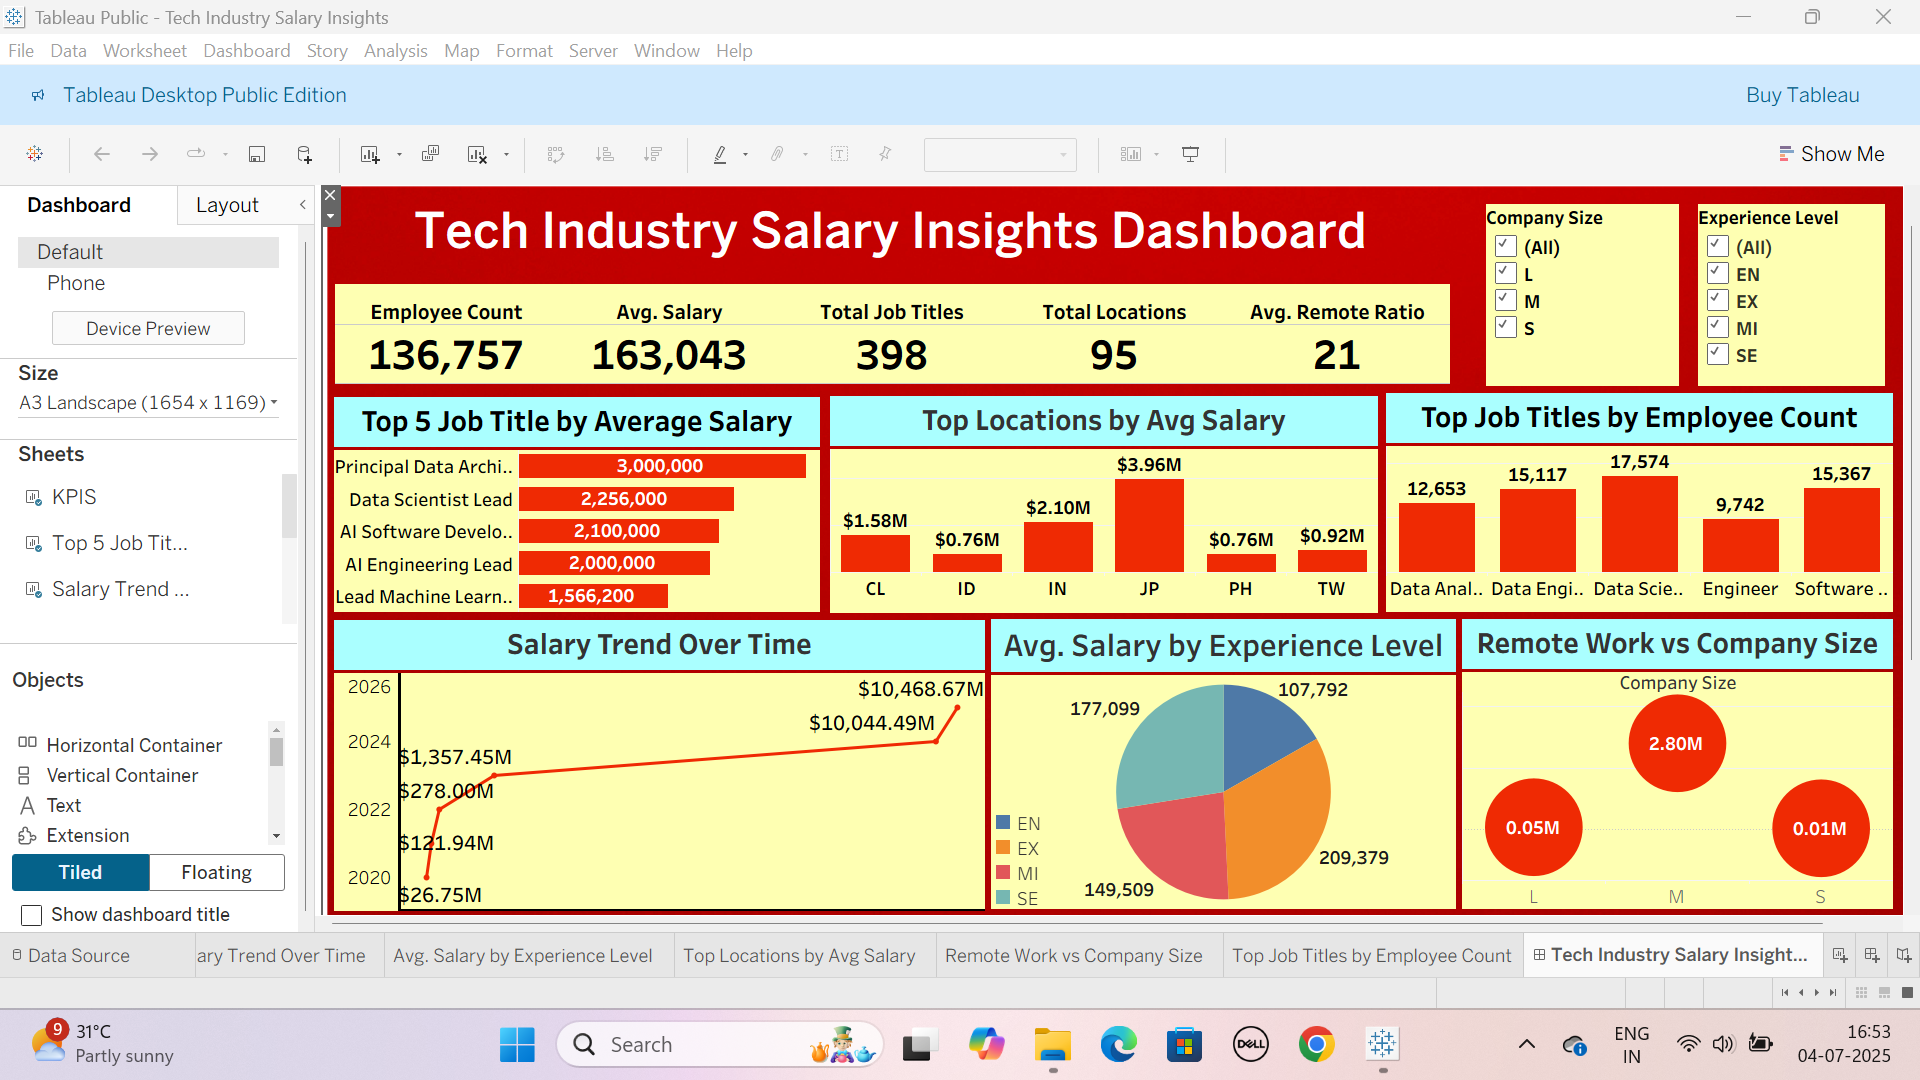

The page's visual inventory and layout, read from the dashboard file:
{"tool":"tableau","page":{"name":"Tech Industry Salary Insights Dashboard","canvas":[1654,1169],"ordinal":0},"visuals":[{"type":"image","param":"Image/pexels-photo-4723038.jpeg","box":[8,8,1638,1153]},{"type":"text","box":[15,43,1121,88]},{"type":"filter","title":"KPIS","param":"[federated.1yvr1s01m4lw1e1gnbx540pelc2t].[none:company_size:nk]","box":[1171,59,193,182]},{"type":"filter","title":"Avg. Salary by Experience Level","param":"[federated.1yvr1s01m4lw1e1gnbx540pelc2t].[none:experience_level:nk]","box":[1383,59,187,182]},{"type":"worksheet","title":"KPIS","mark":"Automatic","box":[20,139,1115,100]},{"type":"worksheet","title":"Top Job Titles by Employee Count","mark":"Automatic","rows":["Calculation_509188260400869376"],"cols":["job_title"],"box":[1071,248,507,219]},{"type":"worksheet","title":"Top Locations by Avg Salary","mark":"Automatic","rows":["salary"],"cols":["company_location"],"box":[515,251,548,217]},{"type":"worksheet","title":"Top 5 Job Title by Average Salary","mark":"Automatic","rows":["job_title"],"cols":["salary"],"box":[19,252,486,215]},{"type":"worksheet","title":"Avg. Salary by Experience Level","mark":"Pie","box":[676,474,465,290]},{"type":"worksheet","title":"Remote Work vs Company Size","mark":"Pie","rows":["remote_ratio"],"cols":["company_size"],"box":[1147,474,431,290]},{"type":"worksheet","title":"Salary Trend Over Time","mark":"Line","rows":["work_year"],"cols":["salary"],"box":[19,475,651,291]},{"type":"legend","title":"Avg. Salary by Experience Level","param":"[federated.1yvr1s01m4lw1e1gnbx540pelc2t].[none:experience_level:nk]","box":[676,665,140,100]}]}

Visuals, with their boxes on the page's 1654x1169 design canvas (x1, y1, x2, y2). These are canvas units, not pixel positions in the 1920x1080 screenshot, which may show the page scaled, cropped or inside an application window:
image: 8,8,1646,1161
text: 15,43,1136,131
"KPIS" filter: 1171,59,1364,241
"Avg. Salary by Experience Level" filter: 1383,59,1570,241
"KPIS" worksheet: 20,139,1135,239
"Top Job Titles by Employee Count" worksheet: 1071,248,1578,467
"Top Locations by Avg Salary" worksheet: 515,251,1063,468
"Top 5 Job Title by Average Salary" worksheet: 19,252,505,467
"Avg. Salary by Experience Level" worksheet (Pie marks): 676,474,1141,764
"Remote Work vs Company Size" worksheet (Pie marks): 1147,474,1578,764
"Salary Trend Over Time" worksheet (Line marks): 19,475,670,766
"Avg. Salary by Experience Level" legend: 676,665,816,765
